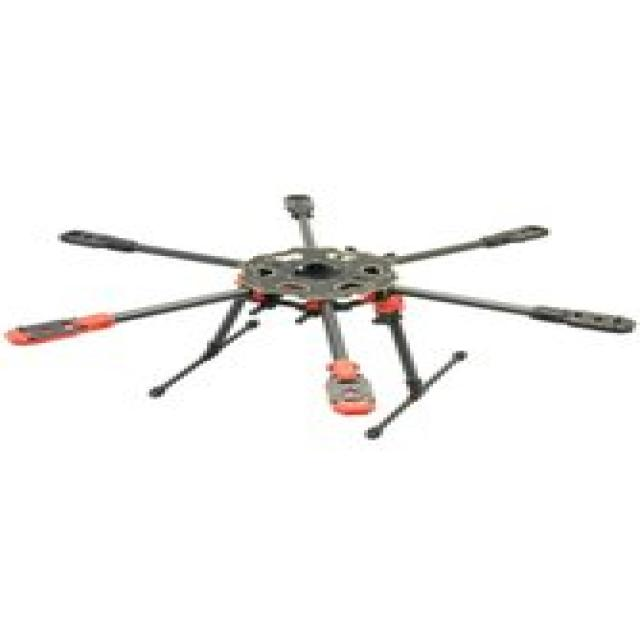drone: (0, 181, 640, 476)
